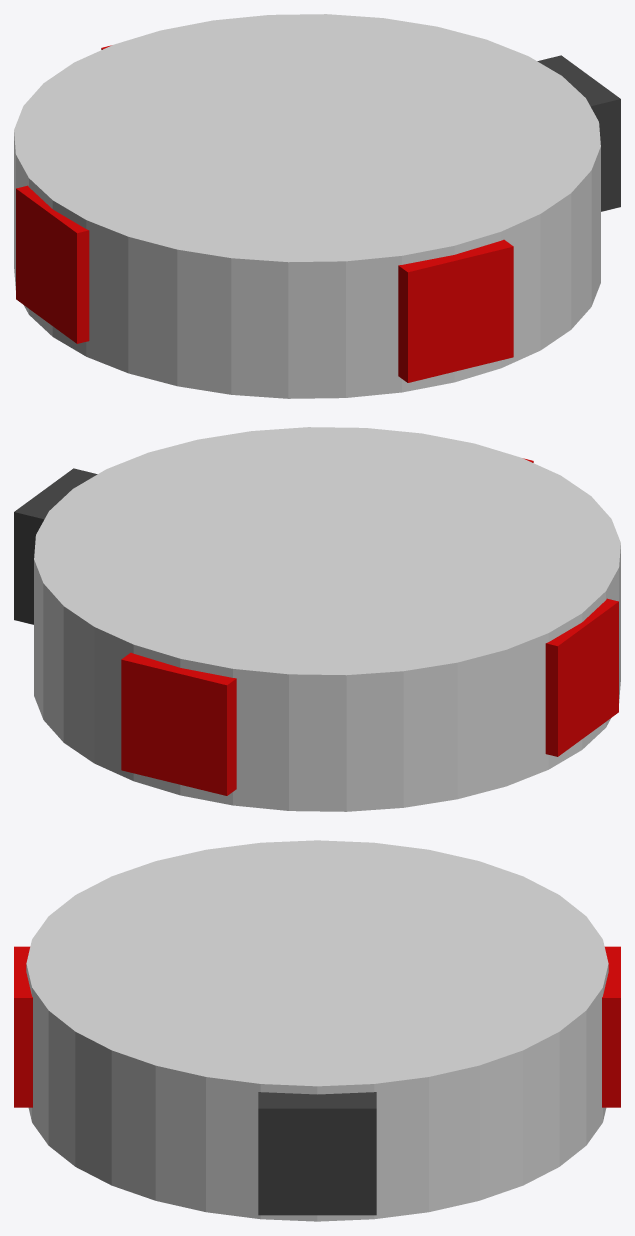
File: kheperac.dae
3 views of the same model, one above another, from view 1: azimuth 30°, elevation 25°; view 2: azimuth 150°, elevation 25°; view 3: azimuth 270°, elevation 25° (orthographic).
Parts seen in each view (by area): view 1: body, t_2, t_3, eye; view 2: body, t_1, t_3, eye; view 3: body, eye, t_2, t_1.
Part boxes in pixels (x1,y1,x2,y2): body: [14, 14, 600, 398]; t_2: [398, 239, 513, 382]; t_3: [16, 185, 89, 343]; eye: [537, 55, 620, 211]; body: [34, 427, 620, 811]; t_1: [121, 652, 236, 795]; t_3: [545, 598, 618, 756]; eye: [14, 468, 97, 624]; body: [26, 840, 608, 1221]; eye: [258, 1092, 376, 1215]; t_2: [14, 946, 32, 1107]; t_1: [602, 946, 620, 1107].
Size of the model in its own units: 1.5 by 1.46 by 0.3597.
